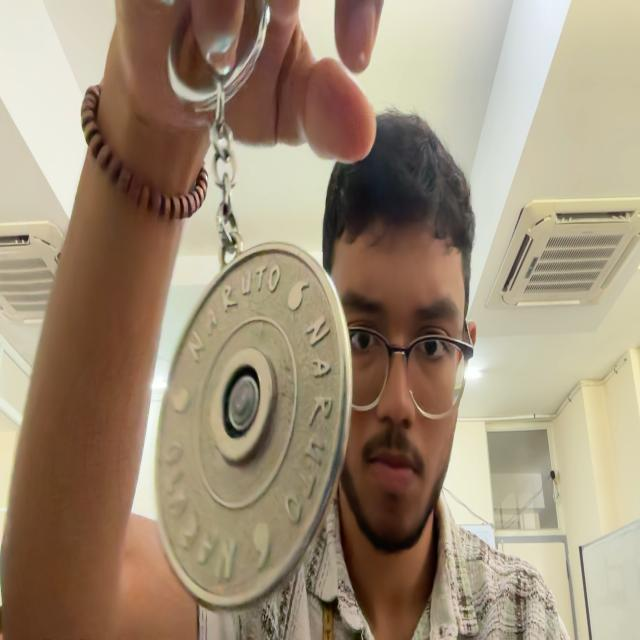dangerous: (155, 0, 352, 639)
